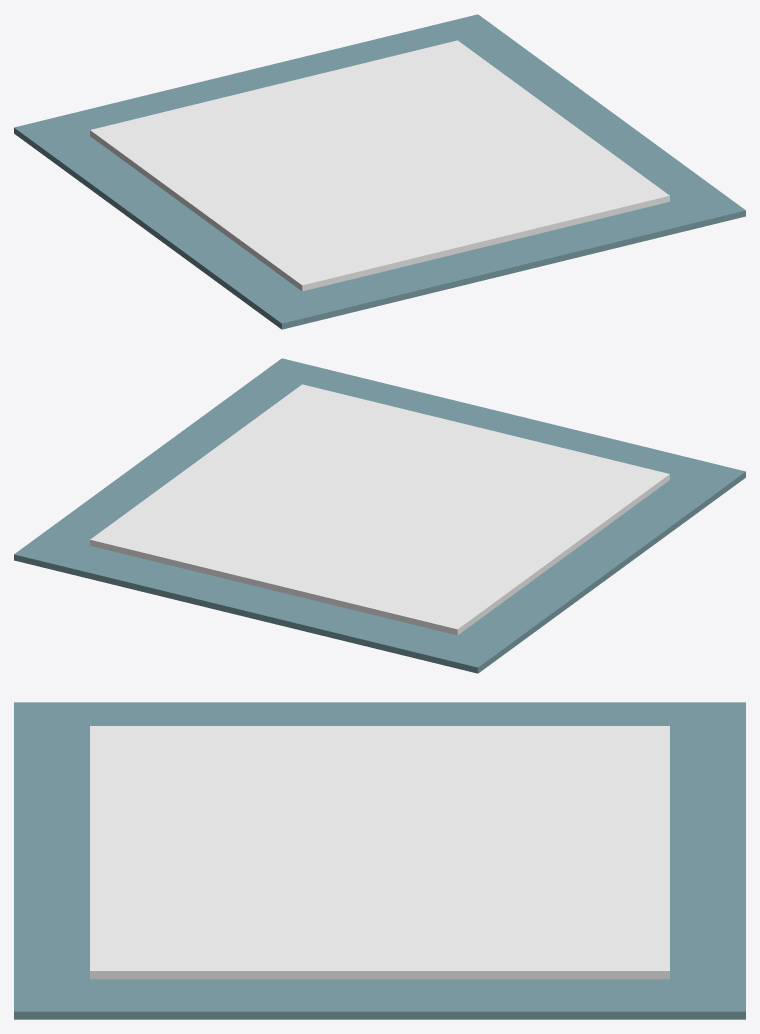
The model's file is PushButton.fbx.
3 views of the same model, one above another, from view 1: azimuth 30°, elevation 25°; view 2: azimuth 150°, elevation 25°; view 3: azimuth 270°, elevation 25° (orthographic). The views are drawn at different scales.
Visible parts, largest first — view 1: ButtonTop, ButtonBottom; view 2: ButtonTop, ButtonBottom; view 3: ButtonTop, ButtonBottom.
Boxes of the visible parts, box(x1,y1,x2,y2) form: ButtonTop: box(90, 40, 669, 291); ButtonBottom: box(14, 14, 745, 329); ButtonTop: box(90, 384, 669, 635); ButtonBottom: box(14, 358, 745, 673); ButtonTop: box(90, 726, 669, 979); ButtonBottom: box(14, 702, 745, 1019).
Size of the model in its own units: 40 by 40 by 1.
